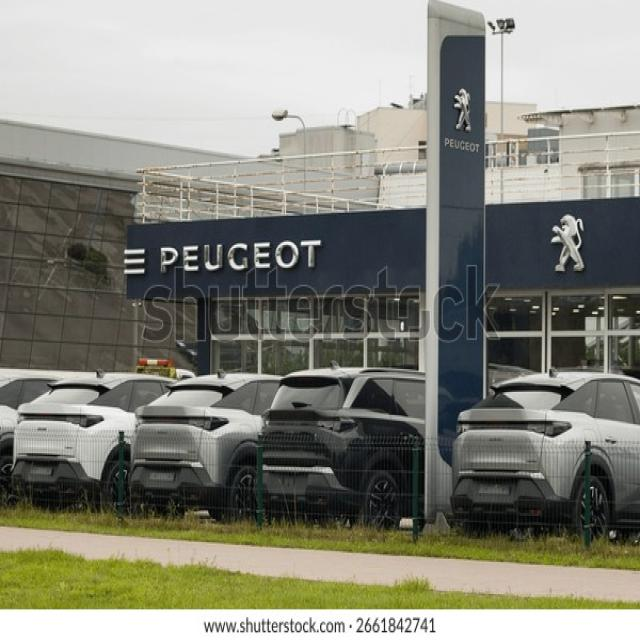pegout: (542, 200, 594, 284)
